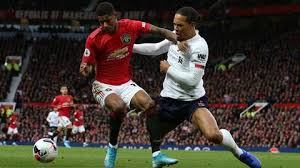football: (30, 136, 61, 165)
